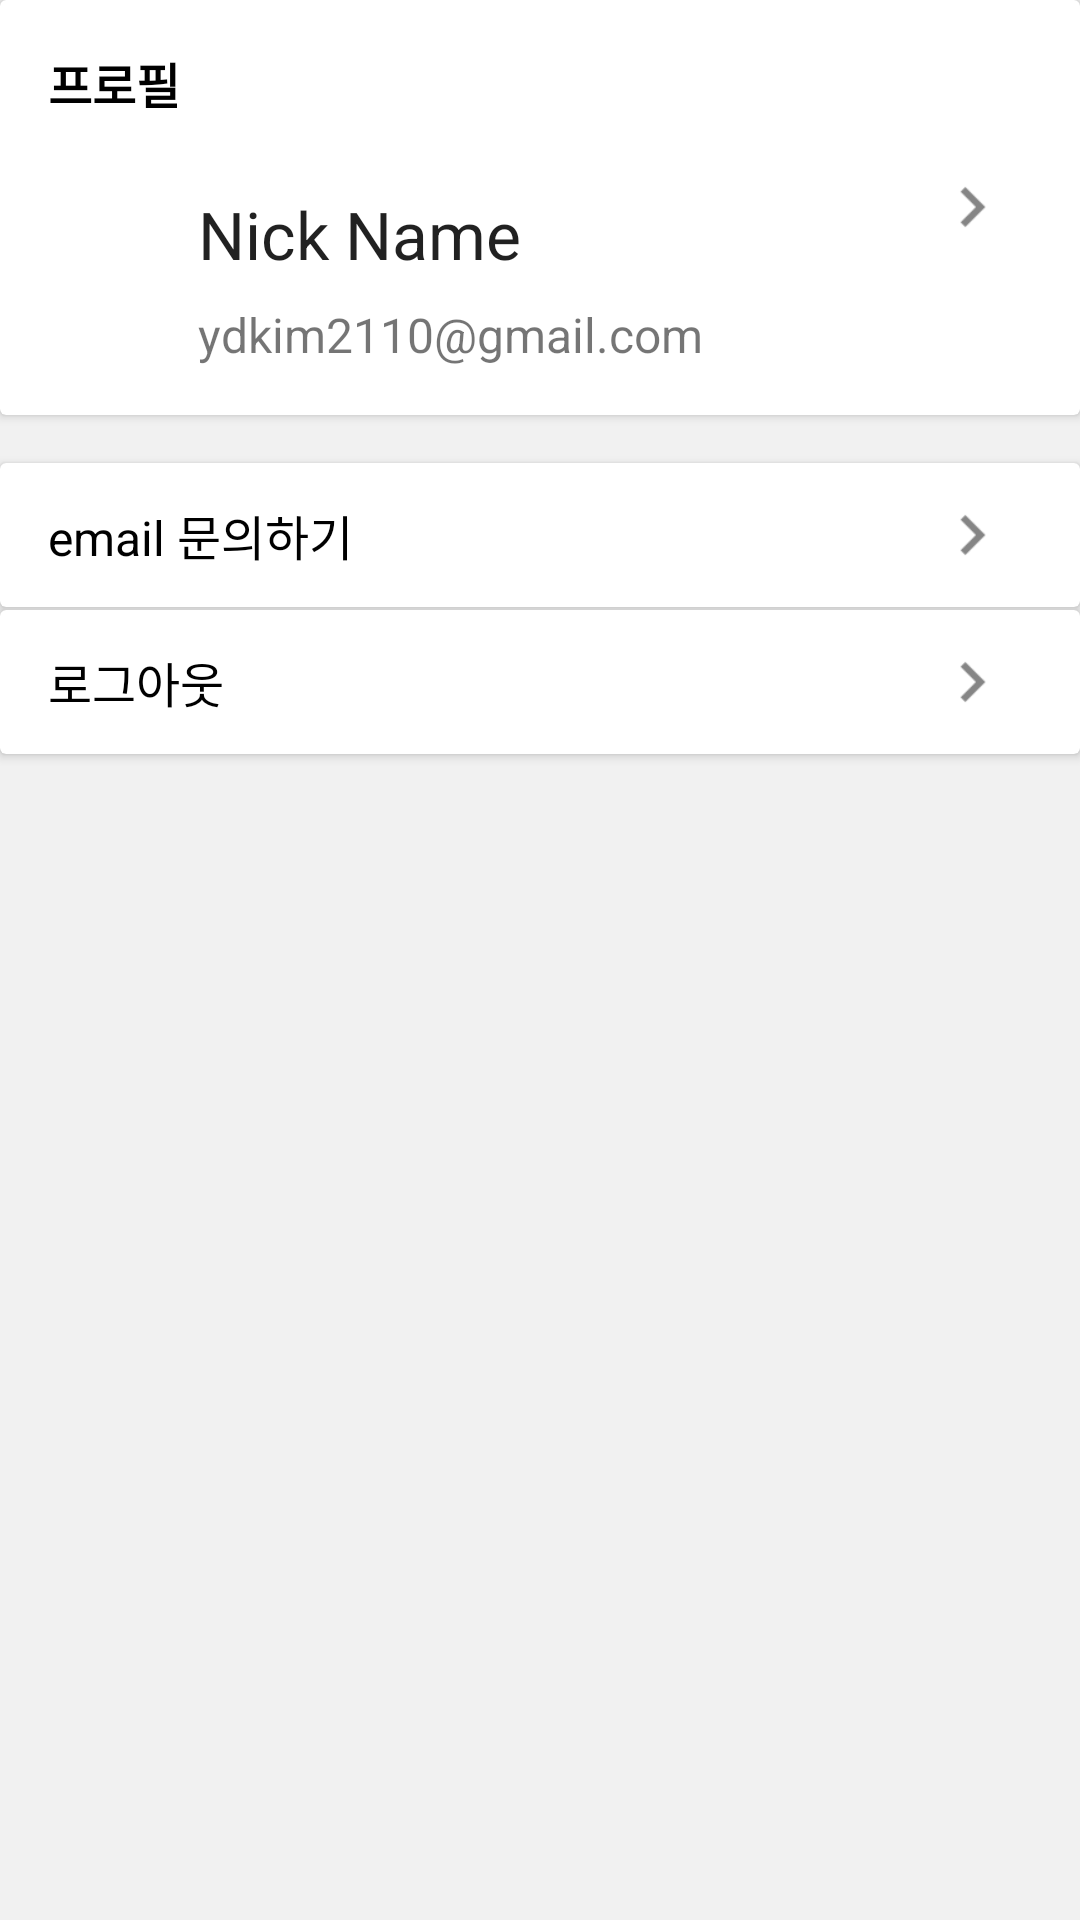

Named icons in this screenshot (1080w x 1920h) and their centers, [x,y]:
chevron right: [972,207], [972,535], [972,682]
